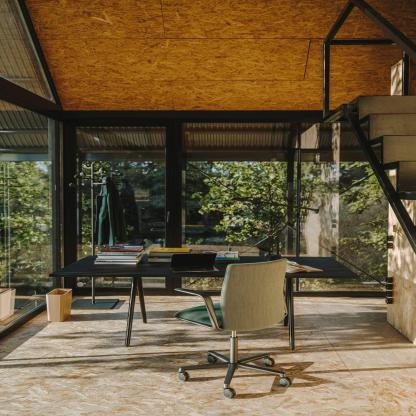chair: (175, 257, 305, 403)
table: (33, 236, 371, 354)
